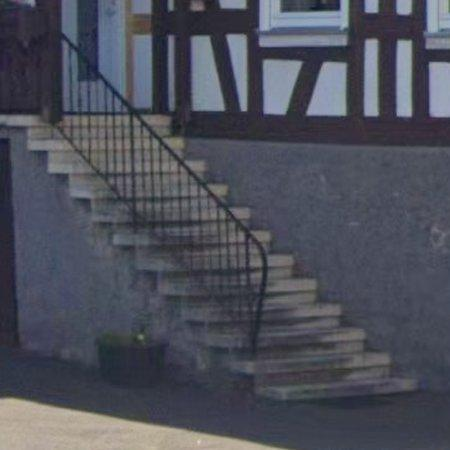stairs: (0, 36, 419, 402)
